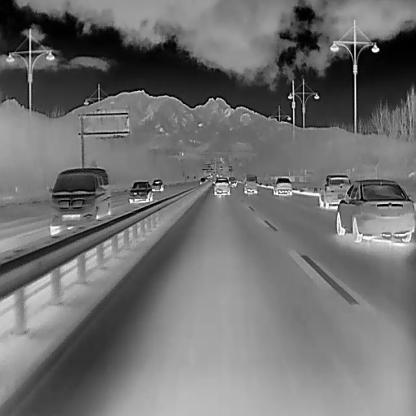car: (335, 178, 415, 243), (47, 168, 115, 236), (318, 173, 352, 208), (128, 180, 152, 204), (272, 176, 292, 195), (212, 176, 230, 197), (242, 173, 258, 193), (151, 178, 163, 191), (228, 175, 236, 187), (199, 176, 205, 184)
